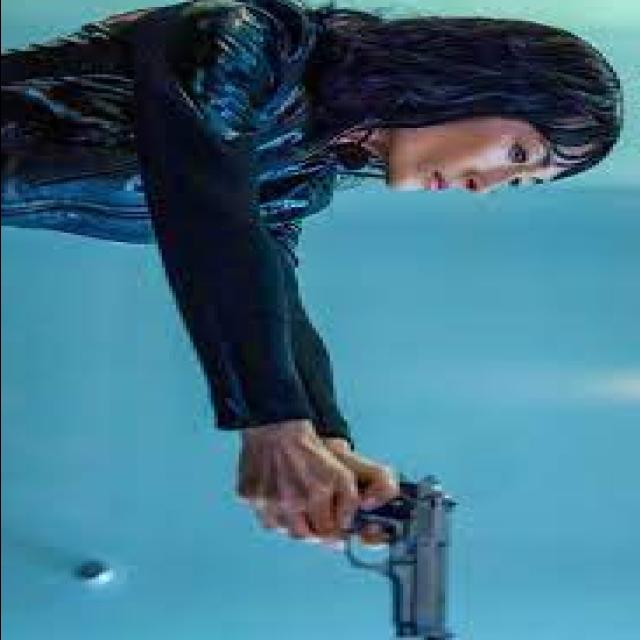weapons: (288, 426, 484, 640)
